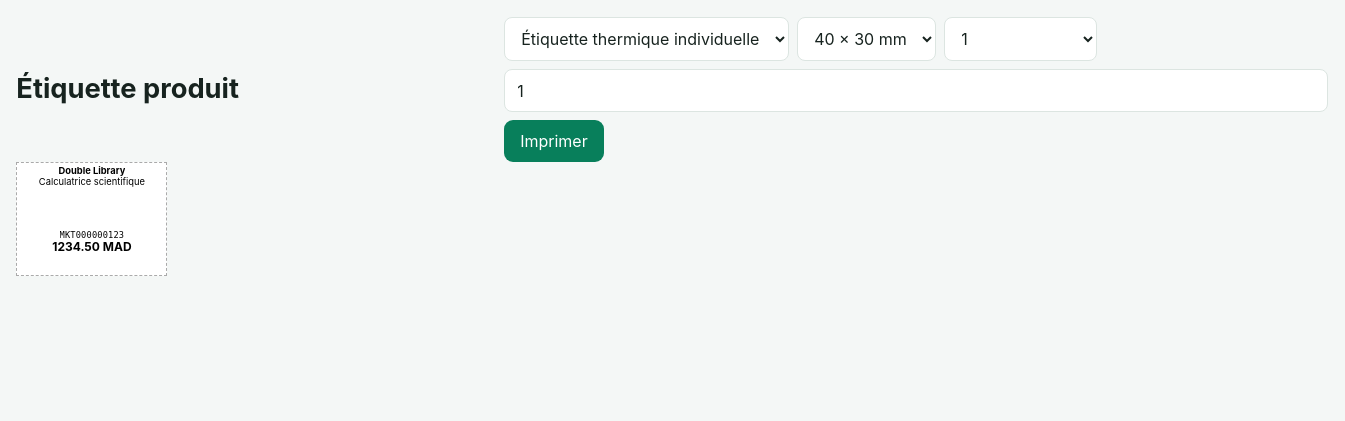
Test: actual product label route › reuses the same linear barcode for A4 and every requested copy
This screenshot has width=1345, height=421.
Expected: the picture is shown, [28,189,156,230]
Select "Planche d'étiquettes A4" in the dropdown named "Format d'impression" at coordinates (647, 39), box [504,17,789,61]
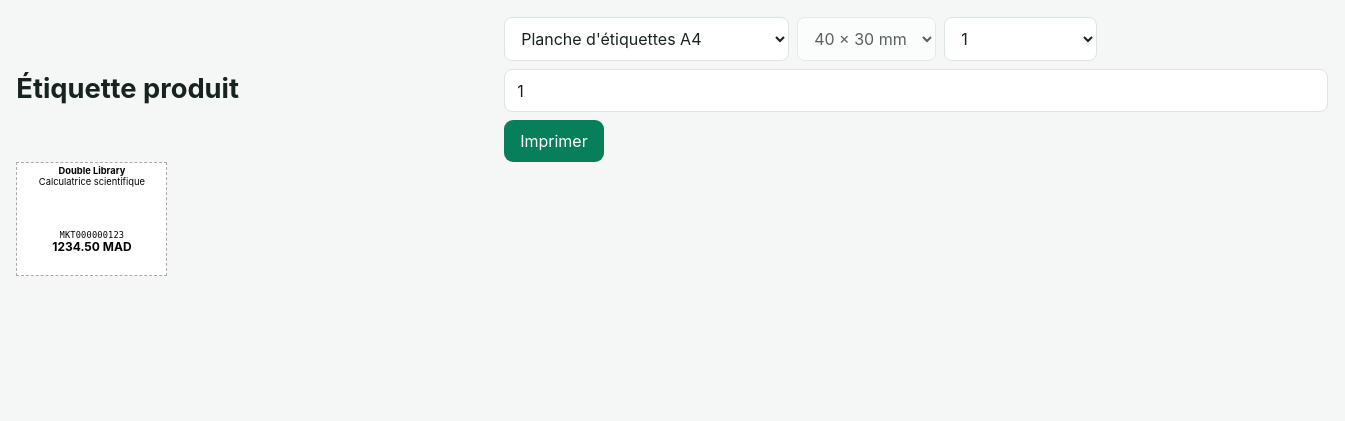
Select "6" in the dropdown named "Quantit" at coordinates (1021, 39), box [944,17,1097,61]
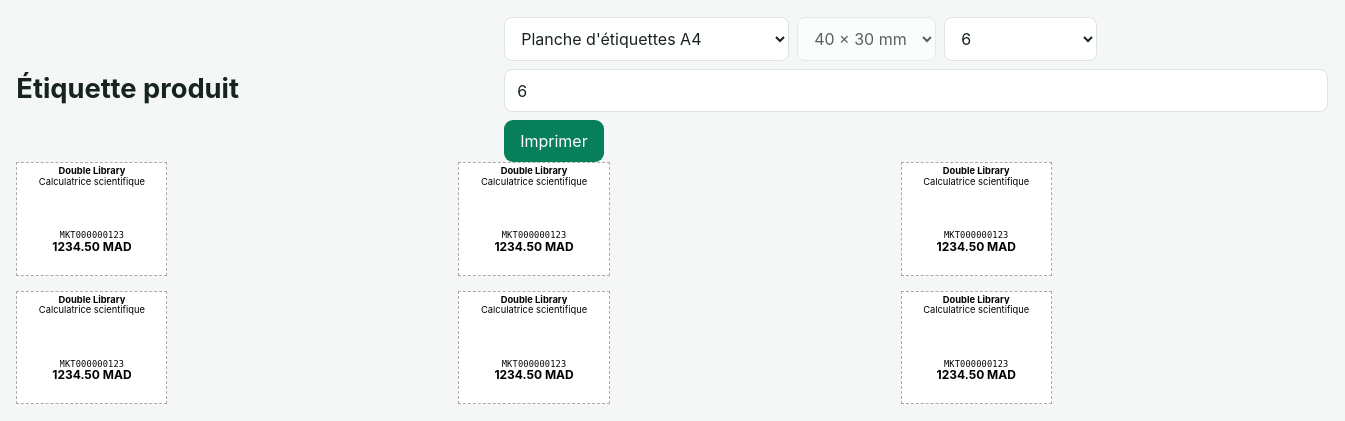
Now the element with class "label-format-a4" is shown, box [16,162,1052,404]
Now the number of pictures is 6, box [28,189,156,230]; [470,189,598,230]; [912,189,1040,230]; [28,317,156,359]; [470,317,598,359]; [912,317,1040,359]
